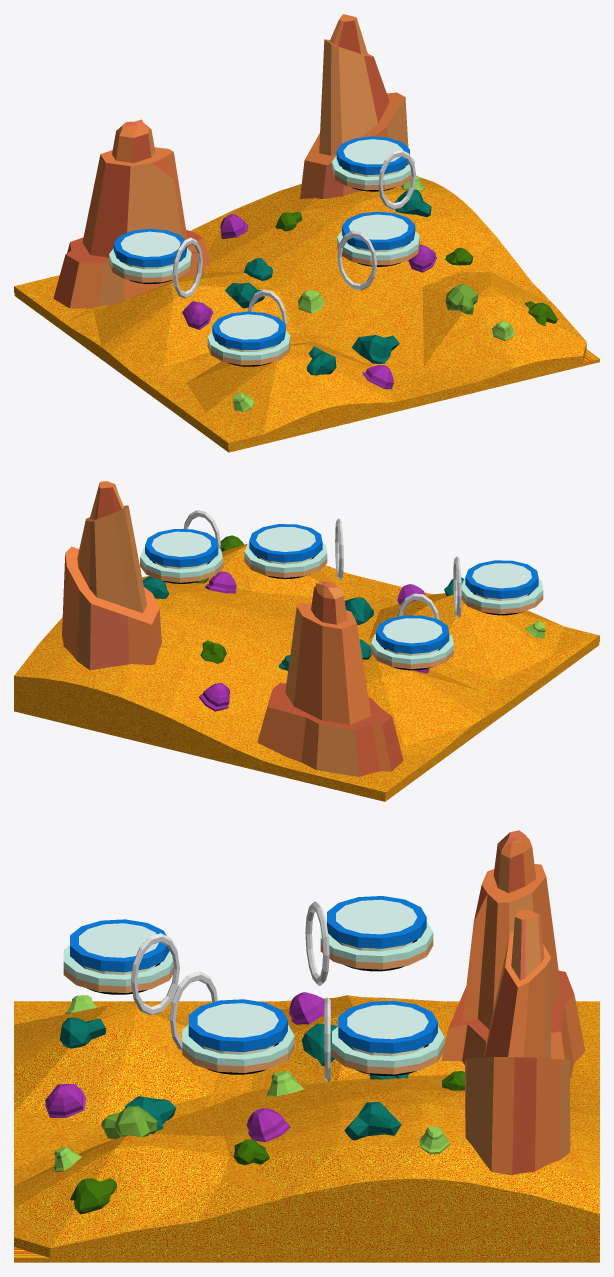
Rendered from D9_Central_Park.fbx.
3 renders of one model, top to bottom at view 1: azimuth 30°, elevation 25°; view 2: azimuth 150°, elevation 25°; view 3: azimuth 270°, elevation 25°, orthographic. The views are drawn at different scales.
Parts seen in each view (by area): view 1: Cube.033; view 2: Cube.033; view 3: Cube.033.
Boxes of the visible parts, x1=… form: Cube.033: x1=14, y1=14, x2=599, y2=452; Cube.033: x1=14, y1=481, x2=599, y2=801; Cube.033: x1=14, y1=830, x2=599, y2=1262.
Size of the model in its own units: 12418 by 7109 by 12400.
Materials: 5 (4 with a texture image).
